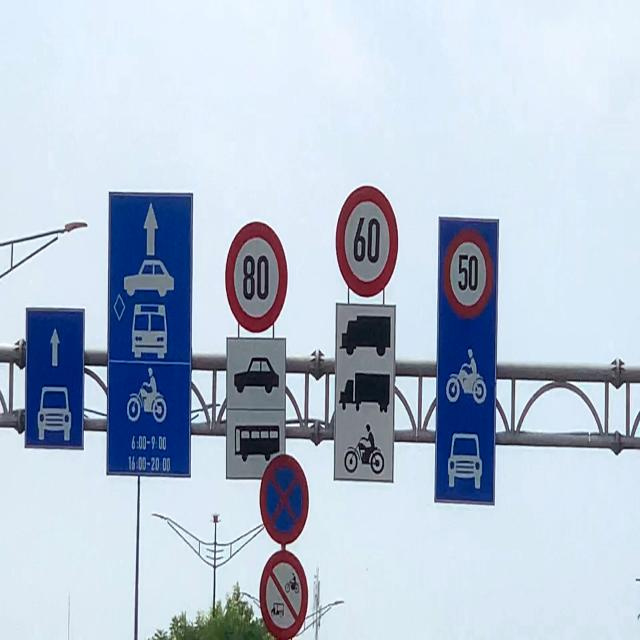P.127: (222, 217, 293, 334), (333, 183, 402, 302), (442, 217, 494, 317)
P.130: (257, 451, 311, 548)
